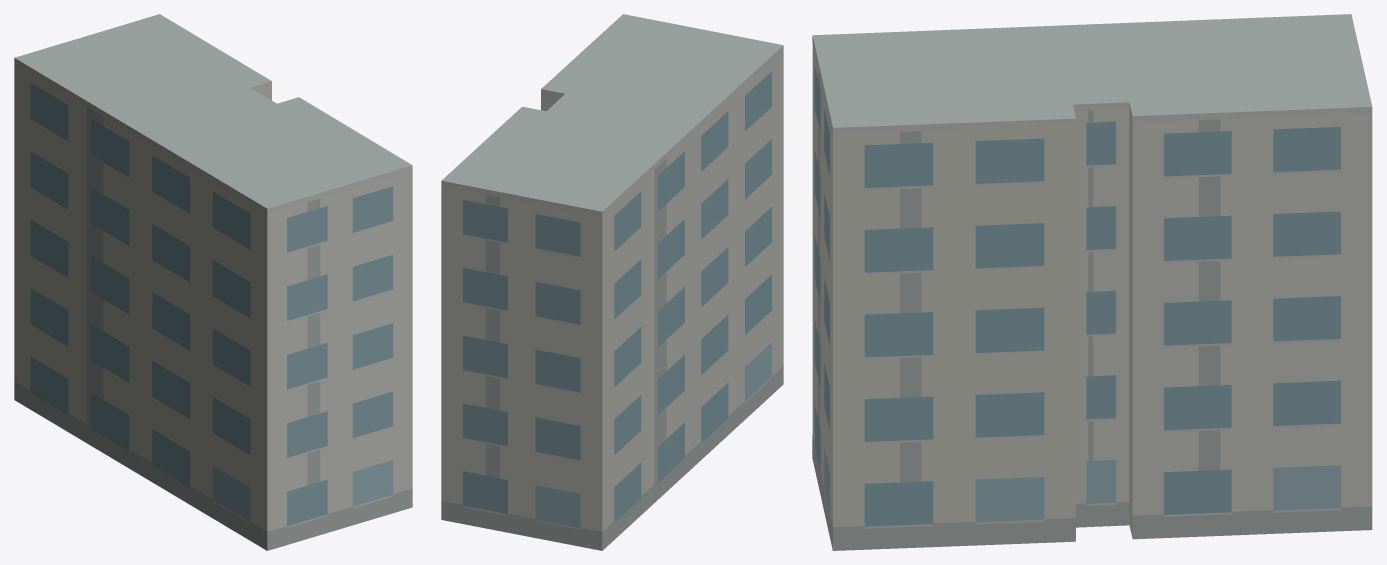
The model's file is survey-upis-32608248.glb.
3 views of the same model, side by side, from view 1: azimuth 30°, elevation 25°; view 2: azimuth 150°, elevation 25°; view 3: azimuth 270°, elevation 25° (orthographic). The views are drawn at different scales.
Visible parts, largest first — view 1: survey-upis-32608248.tmp; view 2: survey-upis-32608248.tmp; view 3: survey-upis-32608248.tmp.
Part boxes in pixels (x1=…): survey-upis-32608248.tmp: x1=14, y1=14, x2=412, y2=550; survey-upis-32608248.tmp: x1=441, y1=14, x2=783, y2=550; survey-upis-32608248.tmp: x1=812, y1=14, x2=1372, y2=550.
Bounding box in the file's own units: 8.87 × 15.35 × 18.42.
